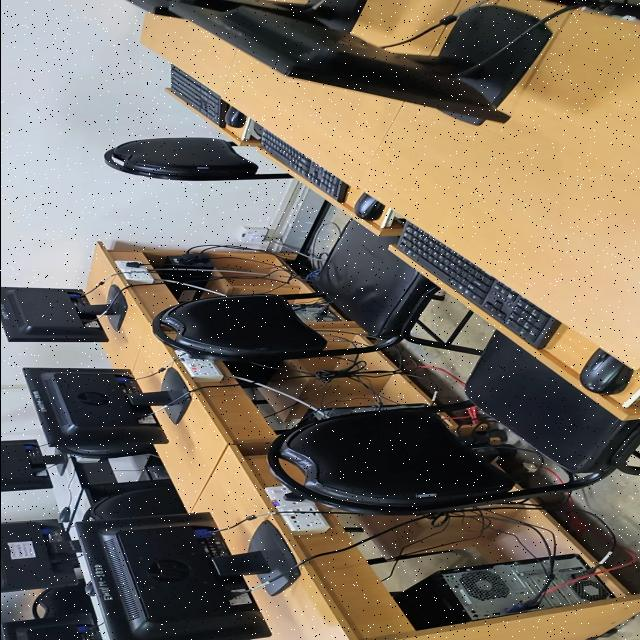Chair: (266, 331, 640, 515), (151, 220, 481, 365), (103, 138, 291, 181), (85, 484, 184, 521), (32, 582, 93, 619), (55, 441, 151, 458)
Cpu: (391, 558, 548, 630), (541, 577, 612, 609), (312, 404, 427, 419), (553, 555, 585, 582)
Keyboard: (396, 222, 558, 347), (256, 127, 346, 202), (165, 65, 228, 129)
Monitor: (169, 0, 551, 125), (76, 513, 298, 640), (22, 368, 190, 447), (0, 286, 126, 342), (0, 521, 78, 593), (0, 440, 64, 492), (0, 615, 93, 640), (314, 0, 366, 33), (126, 0, 175, 16), (305, 0, 320, 8)
Mouse: (579, 349, 632, 394), (352, 193, 383, 221), (224, 107, 245, 128), (57, 507, 69, 523), (84, 582, 94, 596)
